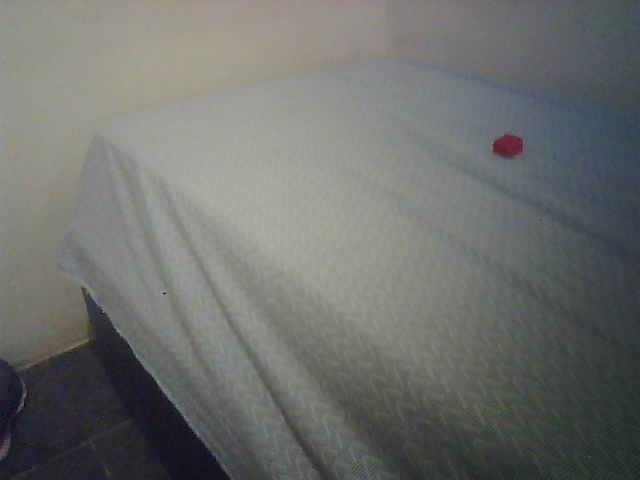lego: (492, 133, 524, 159)
